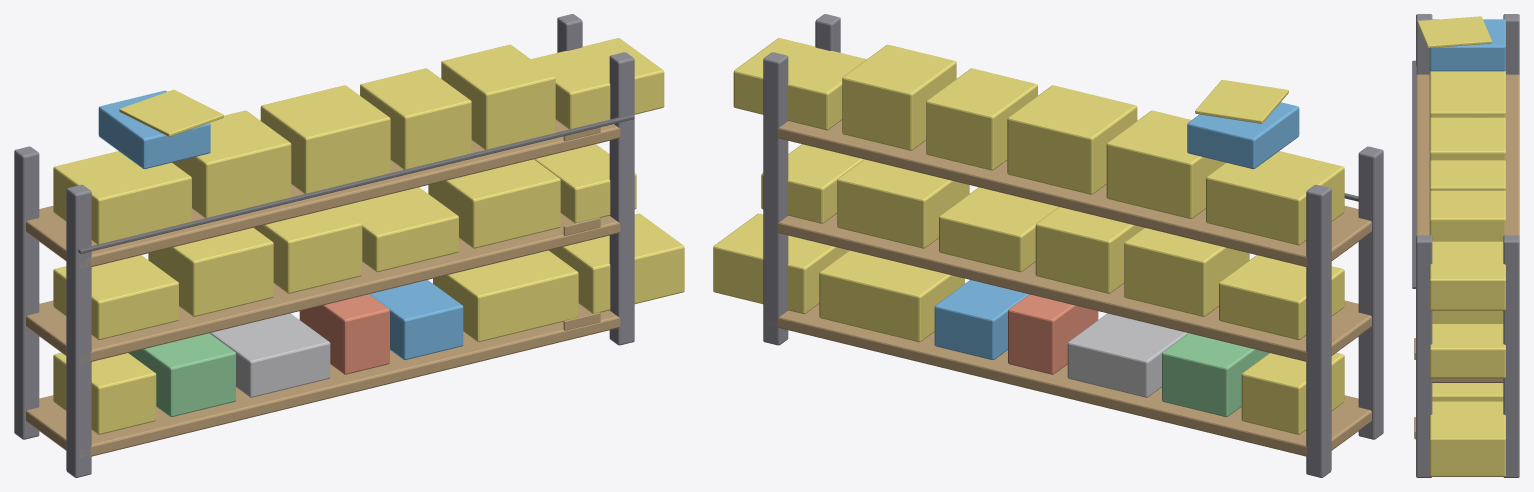
The model's file is стеллаж.glb.
3 renders of one model, left to right at view 1: azimuth 30°, elevation 25°; view 2: azimuth 150°, elevation 25°; view 3: azimuth 270°, elevation 25°, orthographic. The views are drawn at different scales.
Visible parts, largest first — view 1: Деталь_005, Деталь_006, Деталь_007, Коробка_022, Коробка_012, Коробка_020, Коробка_024, Коробка_021, Коробка_018, Коробка_023, Коробка_015, Деталь_002 (+17 smaller); view 2: Деталь_005, Деталь_006, Деталь_007, Коробка_022, Коробка_012, Коробка_020, Коробка_021, Коробка_024, Коробка_018, Коробка_023, Коробка_015, Деталь_001 (+16 smaller); view 3: Коробка_013, Коробка_025, Деталь_007, Коробка_019, Коробка_024, Деталь_003, Деталь_004, Коробка_022, Коробка_021, Коробка_031, Коробка_023, Коробка_032 (+7 smaller).
Part boxes in pixels (left/top/right/bottom): Деталь_005: left=26, top=304, right=625, bottom=457; Деталь_006: left=26, top=213, right=620, bottom=363; Деталь_007: left=26, top=120, right=620, bottom=268; Коробка_022: left=260, top=85, right=390, bottom=193; Коробка_012: left=433, top=250, right=578, bottom=342; Коробка_020: left=53, top=151, right=191, bottom=244; Коробка_024: left=441, top=44, right=555, bottom=149; Коробка_021: left=172, top=110, right=291, bottom=218; Коробка_018: left=428, top=159, right=560, bottom=248; Коробка_023: left=360, top=68, right=471, bottom=169; Коробка_015: left=148, top=227, right=273, bottom=316; Деталь_002: left=66, top=184, right=91, bottom=477; Деталь_005: left=767, top=304, right=1371, bottom=456; Деталь_006: left=770, top=213, right=1371, bottom=361; Деталь_007: left=777, top=120, right=1371, bottom=266; Коробка_022: left=1007, top=85, right=1137, bottom=194; Коробка_012: left=819, top=250, right=964, bottom=342; Коробка_020: left=1206, top=151, right=1344, bottom=245; Коробка_021: left=1106, top=110, right=1225, bottom=218; Коробка_024: left=842, top=44, right=956, bottom=150; Коробка_018: left=837, top=159, right=969, bottom=248; Коробка_023: left=926, top=68, right=1037, bottom=170; Коробка_015: left=1124, top=227, right=1249, bottom=316; Деталь_001: left=1306, top=184, right=1331, bottom=477; Коробка_013: left=1429, top=401, right=1505, bottom=476; Коробка_025: left=1429, top=241, right=1505, bottom=310; Деталь_007: left=1416, top=74, right=1519, bottom=235; Коробка_019: left=1429, top=324, right=1505, bottom=378; Коробка_024: left=1429, top=190, right=1505, bottom=241; Деталь_003: left=1503, top=235, right=1519, bottom=477; Деталь_004: left=1416, top=235, right=1432, bottom=477; Коробка_022: left=1429, top=117, right=1505, bottom=161; Коробка_021: left=1429, top=78, right=1505, bottom=118; Коробка_031: left=1429, top=19, right=1505, bottom=71; Коробка_023: left=1429, top=160, right=1505, bottom=191; Коробка_032: left=1417, top=16, right=1491, bottom=48.
Bounding box in the file's own units: 5.46 × 2.72 × 0.985.
